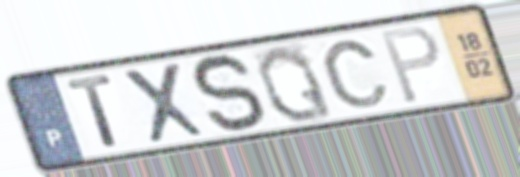C: (319, 38, 392, 110)
P: (377, 23, 444, 107)
Q: (253, 42, 337, 125)
S: (189, 51, 269, 138)
T: (63, 72, 124, 151)
X: (118, 59, 212, 147)
